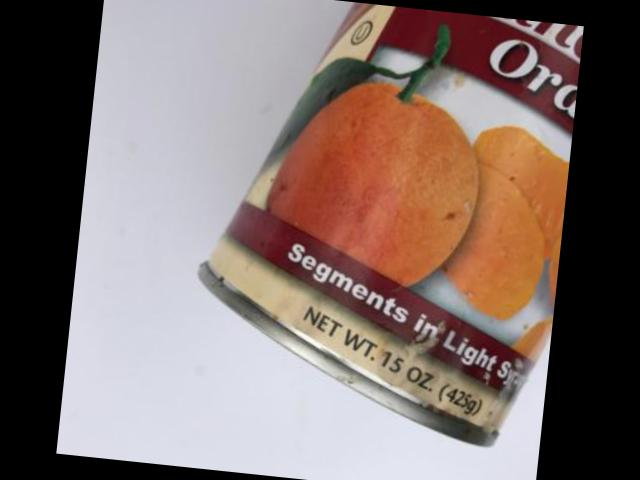metal: (197, 2, 580, 446)
